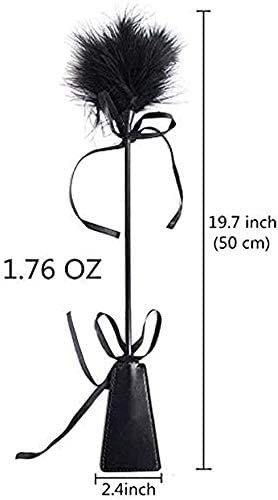(S0: (214, 236, 237, 251)
19.7: (210, 216, 239, 228)
cm): (242, 237, 269, 251)
inch: (246, 215, 276, 228)
